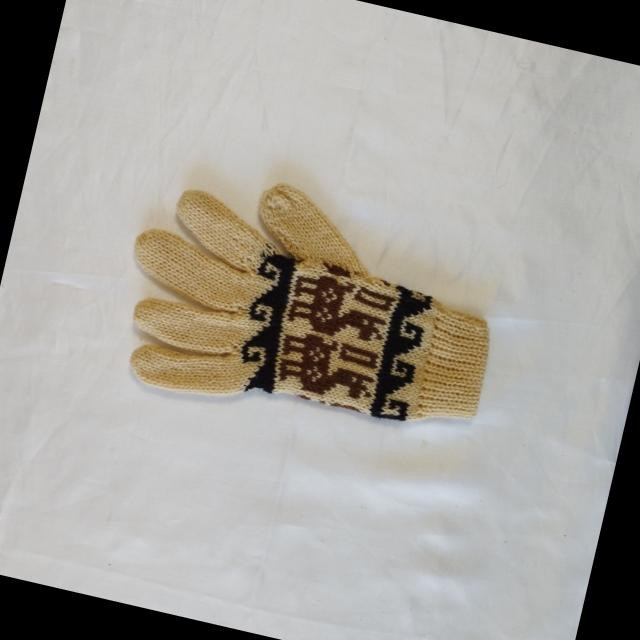Guante: (102, 153, 517, 461)
